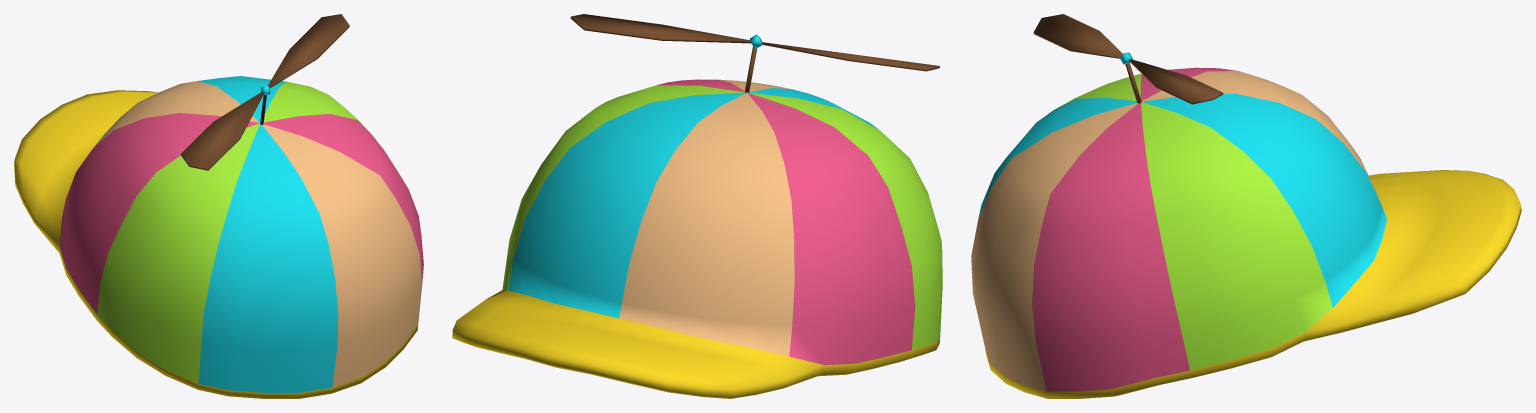
File: PropellerHat.fbx
3 renders of one model, left to right at view 1: azimuth 30°, elevation 25°; view 2: azimuth 150°, elevation 25°; view 3: azimuth 270°, elevation 25°, orthographic. The views are drawn at different scales.
Visible parts, largest first — view 1: PropellorHat; view 2: PropellorHat; view 3: PropellorHat.
Boxes of the visible parts, x1=… form: PropellorHat: x1=14, y1=14, x2=423, y2=398; PropellorHat: x1=452, y1=14, x2=942, y2=398; PropellorHat: x1=971, y1=14, x2=1521, y2=398.
Size of the model in its own units: 186 by 166 by 260.
1 material, 1 textured.
